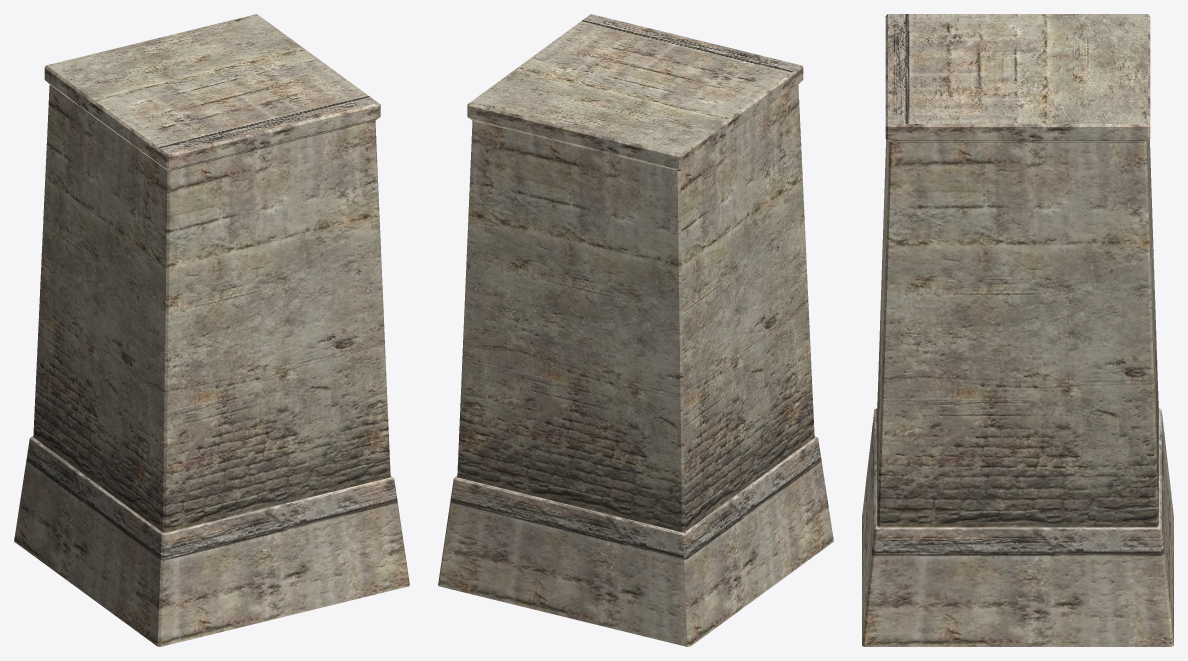
File: TW2_5_HOUSE_01_25-transformed.glb
The picture shows the model from 3 angles, left to right: view 1: azimuth 30°, elevation 25°; view 2: azimuth 150°, elevation 25°; view 3: azimuth 270°, elevation 25°; orthographic projection. The views are drawn at different scales.
Visible parts, largest first — view 1: default; view 2: default; view 3: default.
Boxes of the visible parts, x1,y1,x2,y2 form: default: (14,14,409,646); default: (438,14,833,646); default: (862,14,1173,646).
Size of the model in its own units: 3.64 by 6.6 by 3.64.
Materials: 1 (1 with a texture image).
